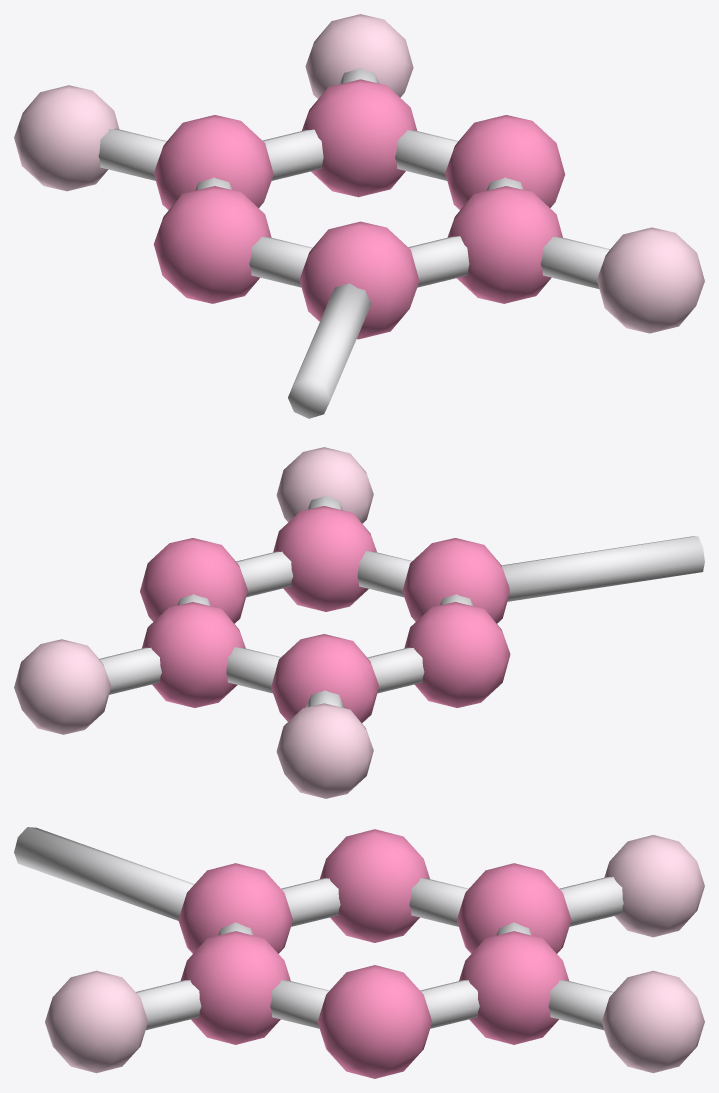
The model's file is Thymine_T.glb.
3 views of the same model, one above another, from view 1: azimuth 30°, elevation 25°; view 2: azimuth 150°, elevation 25°; view 3: azimuth 270°, elevation 25° (orthographic). The views are drawn at different scales.
Parts seen in each view (by area): view 1: Thymine_T_Ring, Thymine_T_Edge, Thymine_T_Bonds; view 2: Thymine_T_Ring, Thymine_T_Edge, Thymine_T_Bonds; view 3: Thymine_T_Ring, Thymine_T_Edge, Thymine_T_Bonds.
Boxes of the visible parts, box(x1,y1,x2,y2) form: Thymine_T_Ring: box(153, 79, 565, 339); Thymine_T_Edge: box(14, 14, 704, 333); Thymine_T_Bonds: box(98, 68, 609, 418); Thymine_T_Ring: box(140, 506, 510, 722); Thymine_T_Edge: box(14, 447, 373, 798); Thymine_T_Bonds: box(99, 495, 704, 707); Thymine_T_Ring: box(178, 829, 571, 1078); Thymine_T_Edge: box(45, 835, 704, 1073); Thymine_T_Bonds: box(14, 827, 623, 1030).
Size of the model in its own units: 0.0427 by 0.01 by 0.0602.
